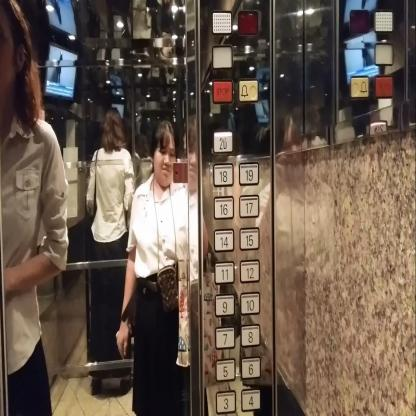10: (240, 292, 260, 314)
11: (214, 261, 235, 284)
12: (240, 260, 260, 283)
14: (214, 228, 234, 251)
15: (240, 228, 260, 250)
16: (214, 196, 234, 218)
17: (239, 194, 259, 218)
18: (214, 164, 234, 185)
19: (238, 163, 258, 184)
20: (213, 131, 233, 153)
3: (216, 390, 236, 414)
4: (240, 388, 260, 412)
5: (215, 358, 235, 381)
6: (241, 356, 261, 379)
7: (215, 326, 235, 349)
8: (240, 324, 260, 347)
9: (214, 294, 235, 316)
alarm: (350, 75, 370, 97), (238, 80, 258, 101)
blur: (374, 76, 394, 100)
empty: (349, 8, 370, 34), (237, 10, 259, 34), (212, 45, 232, 68), (374, 42, 394, 64)
speaker: (373, 9, 394, 32), (212, 10, 232, 33)
text_stop: (212, 80, 233, 102)
